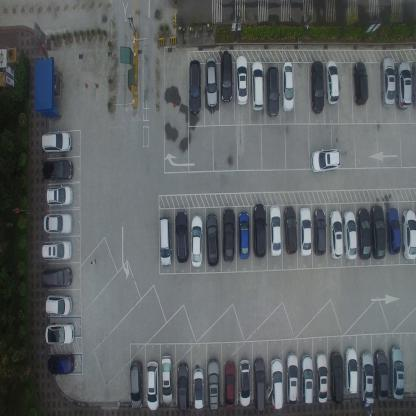car: (370, 204, 387, 260), (310, 145, 340, 175), (359, 351, 375, 407), (379, 55, 396, 106), (373, 349, 389, 402), (329, 350, 344, 406), (356, 208, 372, 260), (268, 357, 284, 409), (253, 203, 268, 258), (283, 205, 299, 256), (174, 210, 189, 264), (40, 266, 72, 291), (396, 59, 412, 109), (188, 57, 202, 114), (390, 346, 405, 399), (205, 211, 219, 267), (222, 207, 236, 263), (310, 58, 324, 114), (265, 66, 280, 118), (44, 322, 75, 347), (329, 209, 344, 260), (352, 60, 369, 105), (158, 214, 172, 268), (206, 357, 220, 411), (41, 129, 71, 154), (42, 156, 73, 180), (401, 207, 415, 260), (343, 209, 357, 261), (298, 206, 312, 258), (301, 354, 315, 406), (250, 59, 264, 111), (253, 356, 266, 412), (386, 207, 401, 255), (190, 214, 203, 269), (40, 239, 72, 261), (146, 360, 160, 410), (129, 360, 143, 410), (46, 351, 74, 376), (220, 51, 233, 104), (286, 352, 299, 405), (205, 55, 218, 108), (160, 352, 173, 404), (43, 212, 72, 235), (236, 56, 249, 107), (238, 210, 251, 261), (325, 58, 339, 105), (282, 62, 295, 112), (314, 208, 327, 257), (177, 362, 190, 411), (316, 352, 328, 405), (224, 360, 236, 413), (270, 205, 282, 257), (345, 348, 358, 396), (239, 358, 251, 408), (45, 295, 73, 316), (46, 185, 72, 207), (192, 367, 204, 410), (410, 60, 416, 106)
